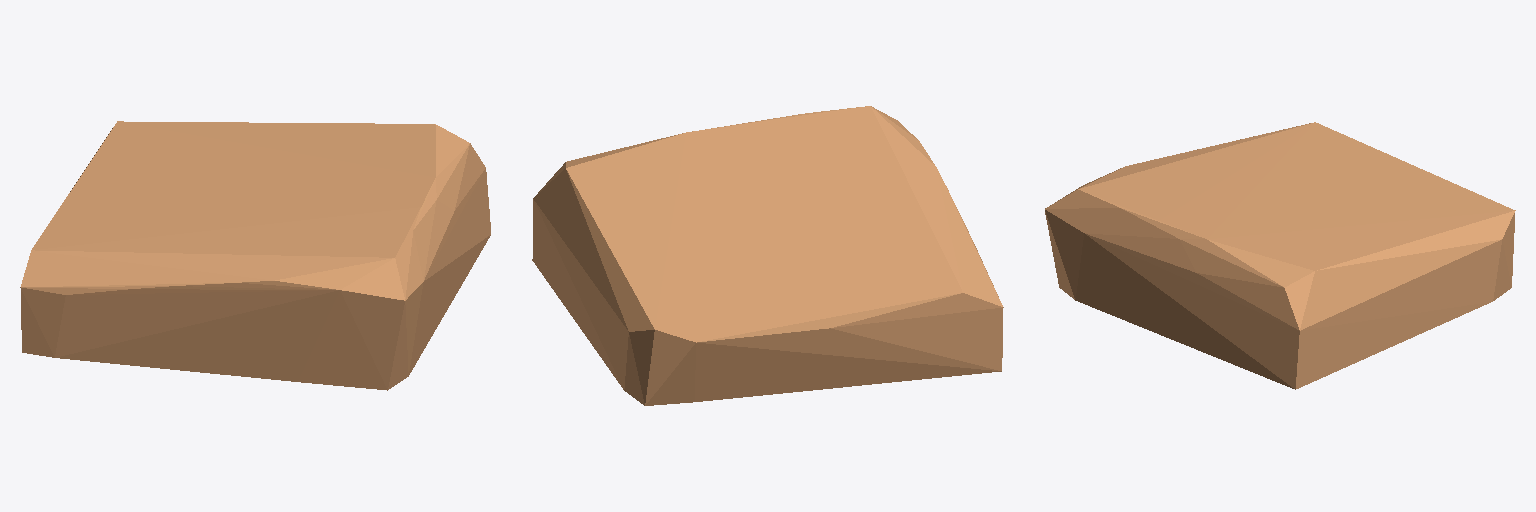
The robot description file, URDF, robot "obj_01":
<?xml version="1.0"?>
<robot name="obj_01">
  <!-- cereal box: cardboard, 425 g. Written by Darius 0.2.0. Link frame: +z up, origin at the capture-time bounding-box center; place it at the pose in world.json -->
  <mujoco>
    <compiler meshdir="../meshes/" discardvisual="true" balanceinertia="true" fusestatic="false" />
  </mujoco>
  <link name="obj_01">
    <inertial>
      <origin xyz="0.00196 3e-05 -0.00353" rpy="0 0 0" />
      <mass value="0.4254" />
      <inertia ixx="0.000670138" ixy="4.79744e-06" ixz="-1.63205e-05" iyy="0.000673851" iyz="2.32125e-05" izz="0.00123395" />
    </inertial>
    <visual>
      <geometry>
        <mesh filename="../meshes/obj_01_visual.obj" />
      </geometry>
      <material name="obj_01_color">
        <color rgba="0.902 0.69 0.506 1" />
      </material>
    </visual>
    <collision name="obj_01">
      <geometry>
        <mesh filename="../meshes/obj_01.obj" />
      </geometry>
    </collision>
    <contact>
      <lateral_friction value="0.5" />
      <restitution value="0.1" />
    </contact>
  </link>
</robot>

--- What the picture shows (computed from the rendered views, not written in the file) ---
The picture shows the robot from 3 angles, left to right: view 1: azimuth 30°, elevation 25°; view 2: azimuth 150°, elevation 25°; view 3: azimuth 270°, elevation 25°; orthographic projection.
Model obj_01 with 1 links and 0 joints (none), rooted at obj_01, posed all joints at 0.
Links seen in each view (by area): view 1: obj_01; view 2: obj_01; view 3: obj_01.
Link boxes in pixels (x1,y1,x2,y2): obj_01: (20,121,490,390); obj_01: (532,106,1003,405); obj_01: (1045,122,1515,389).
Size in the robot's own frame: 0.1893 by 0.1848 by 0.0459 metres.
1 mesh visuals loaded from 1 distinct referenced files (1 OBJ).
